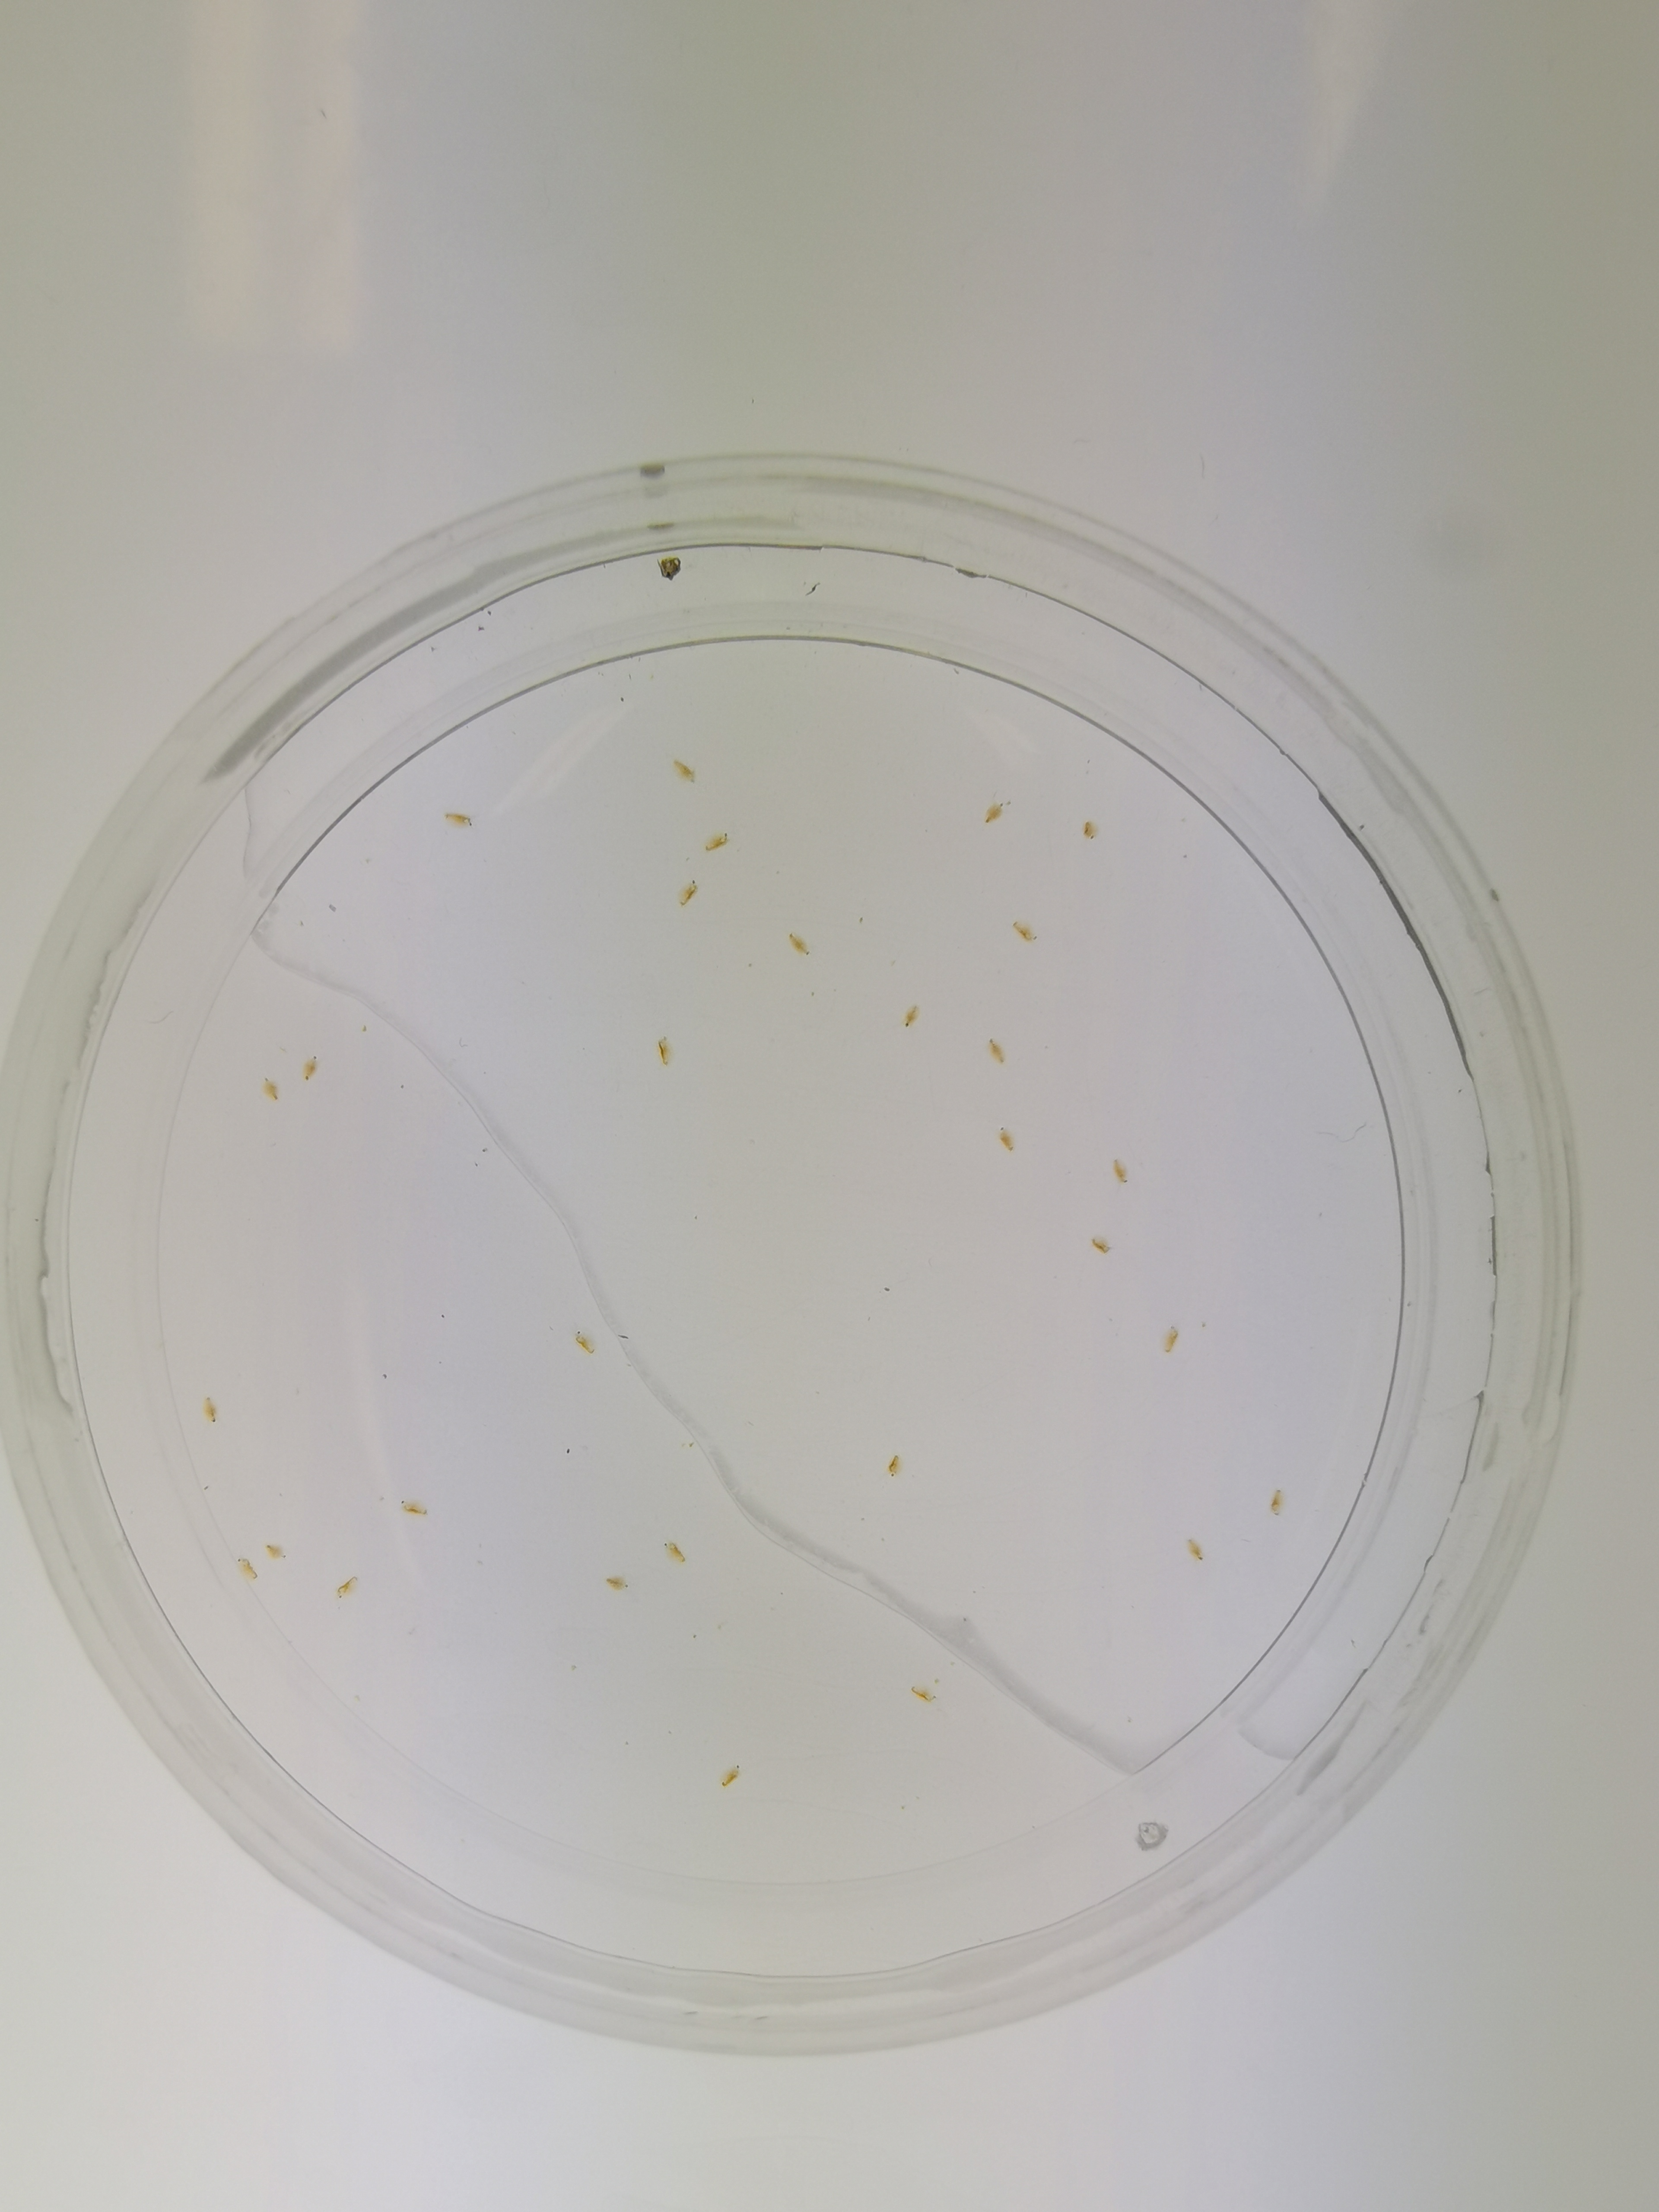D.magna: (985, 1035, 1012, 1068), (1009, 920, 1042, 944), (443, 806, 476, 831), (985, 791, 1009, 822), (788, 928, 812, 958), (1161, 1322, 1182, 1355), (575, 1327, 598, 1357), (655, 1033, 674, 1068), (1112, 1153, 1133, 1184), (908, 1684, 939, 1705), (660, 1540, 687, 1564), (399, 1496, 429, 1517), (673, 759, 697, 784), (704, 829, 730, 852), (995, 1127, 1018, 1153), (605, 1571, 631, 1594), (678, 880, 699, 907), (237, 1557, 260, 1581), (336, 1575, 359, 1599), (1089, 1235, 1115, 1256), (720, 1763, 741, 1789), (1187, 1536, 1208, 1561), (261, 1075, 281, 1101), (904, 1003, 924, 1028), (204, 1392, 218, 1423), (267, 1541, 289, 1561), (1270, 1487, 1286, 1514), (1082, 817, 1100, 840), (305, 1055, 319, 1082), (889, 1454, 903, 1477)
